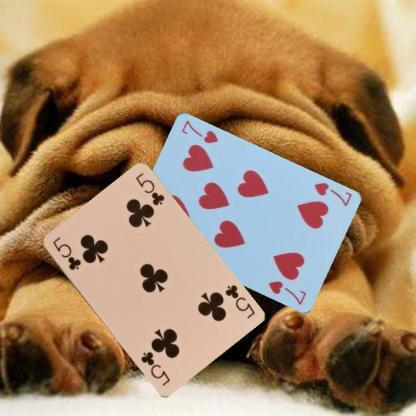5c: (222, 282, 256, 320), (50, 234, 82, 272)
7h: (310, 180, 352, 208)
